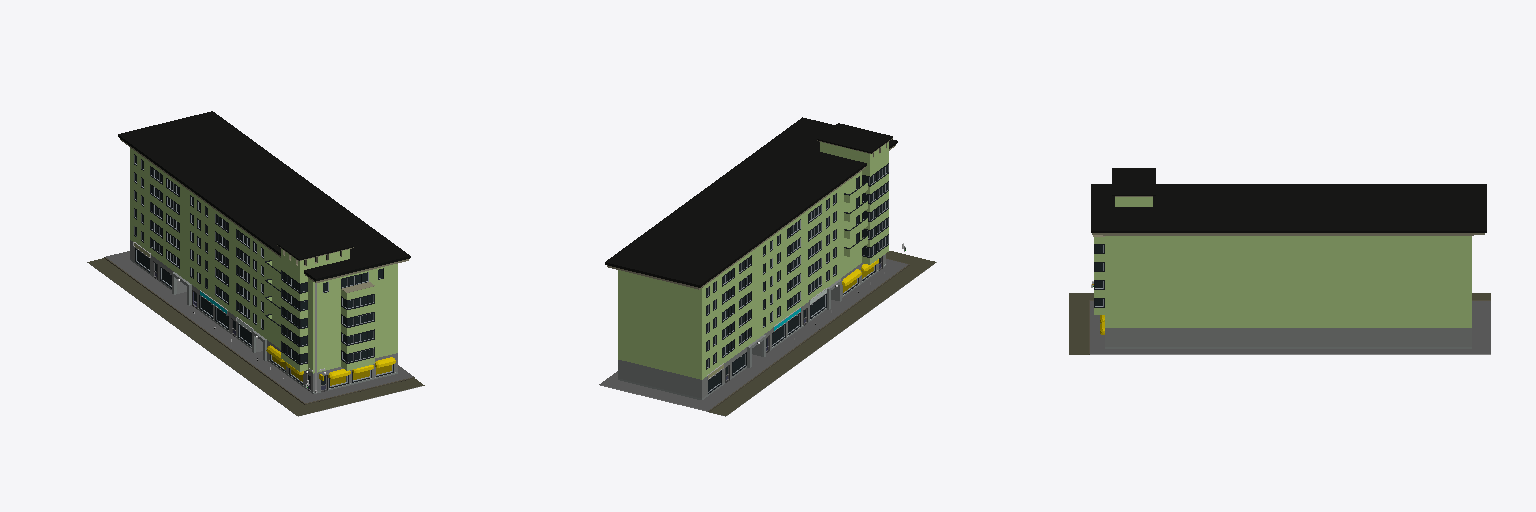
File: building06.obj
The picture shows the model from 3 angles: view 1: azimuth 30°, elevation 25°; view 2: azimuth 150°, elevation 25°; view 3: azimuth 270°, elevation 25°; orthographic projection.
Parts seen in each view (by area): view 1: Layer_0; view 2: Layer_0; view 3: Layer_0.
Boxes of the visible parts, box(x1,y1,x2,y2) form: Layer_0: box(87, 111, 424, 416); Layer_0: box(599, 117, 936, 416); Layer_0: box(1069, 168, 1490, 354).
Bounding box in the file's own units: 20.82 × 21.35 × 59.87.